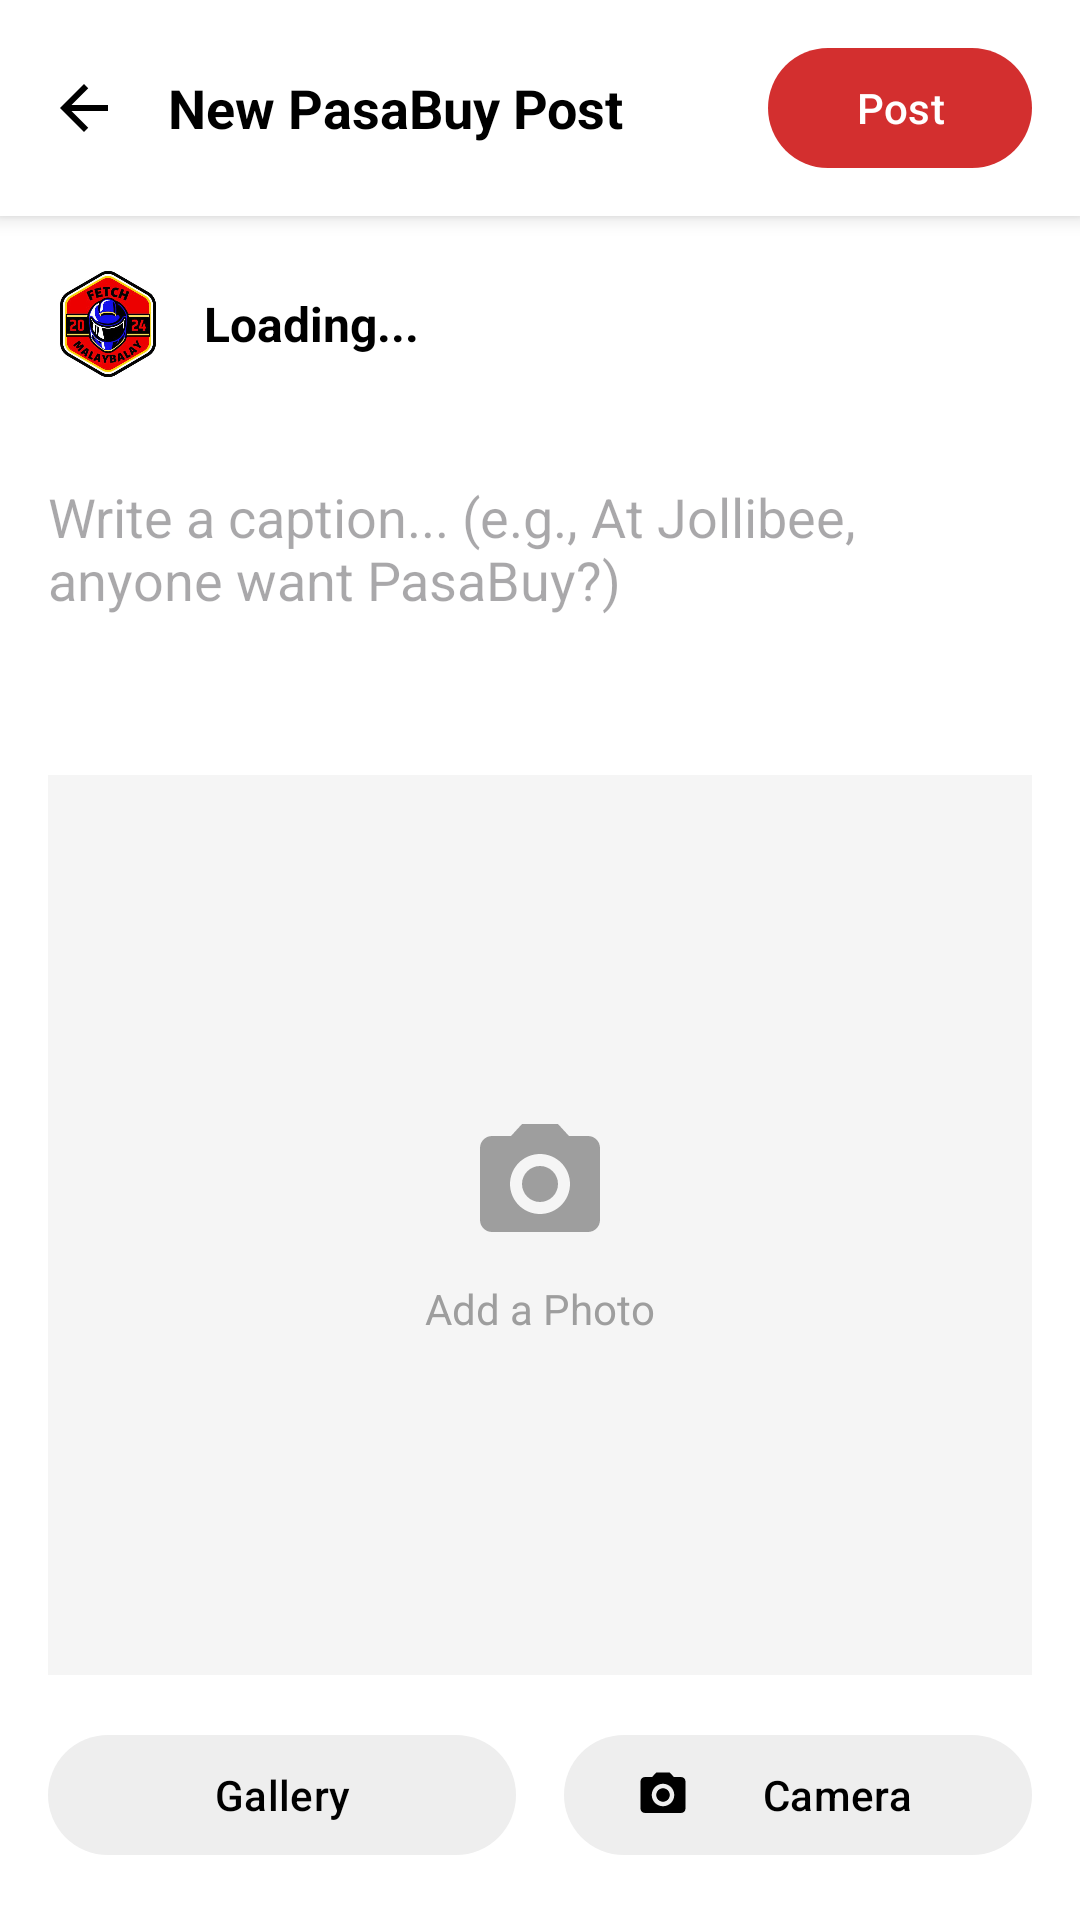

Named icons in this screenshot (1080w x 1920h) and their centers, [x,y]:
back: [84,108]
camera: [540,1178]
